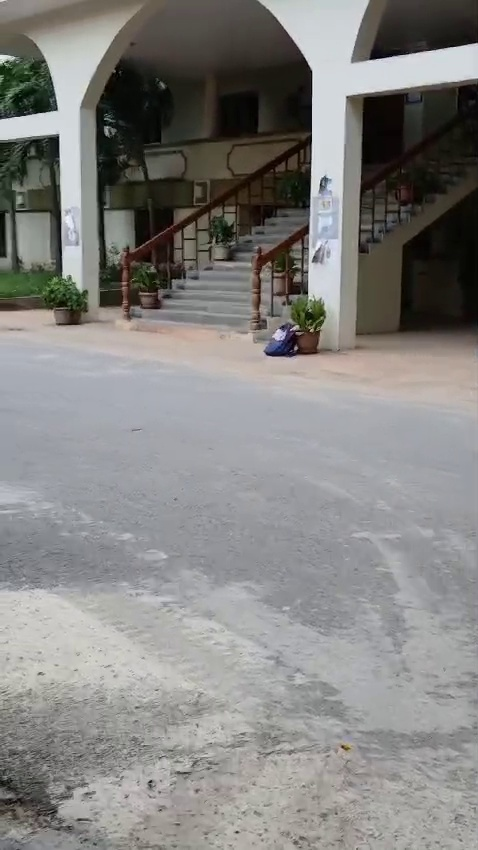bag: (266, 317, 296, 357)
